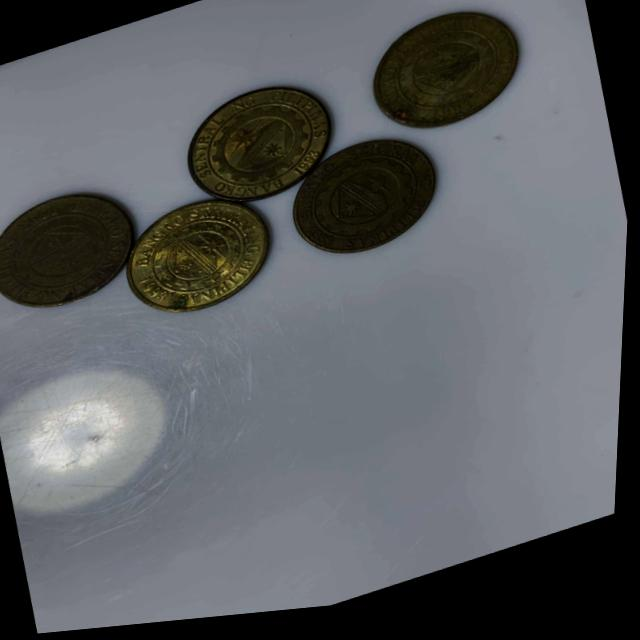25Cent_Old_Back: (363, 7, 532, 151), (118, 184, 276, 332), (182, 75, 343, 219), (286, 134, 446, 274), (0, 176, 142, 325)
